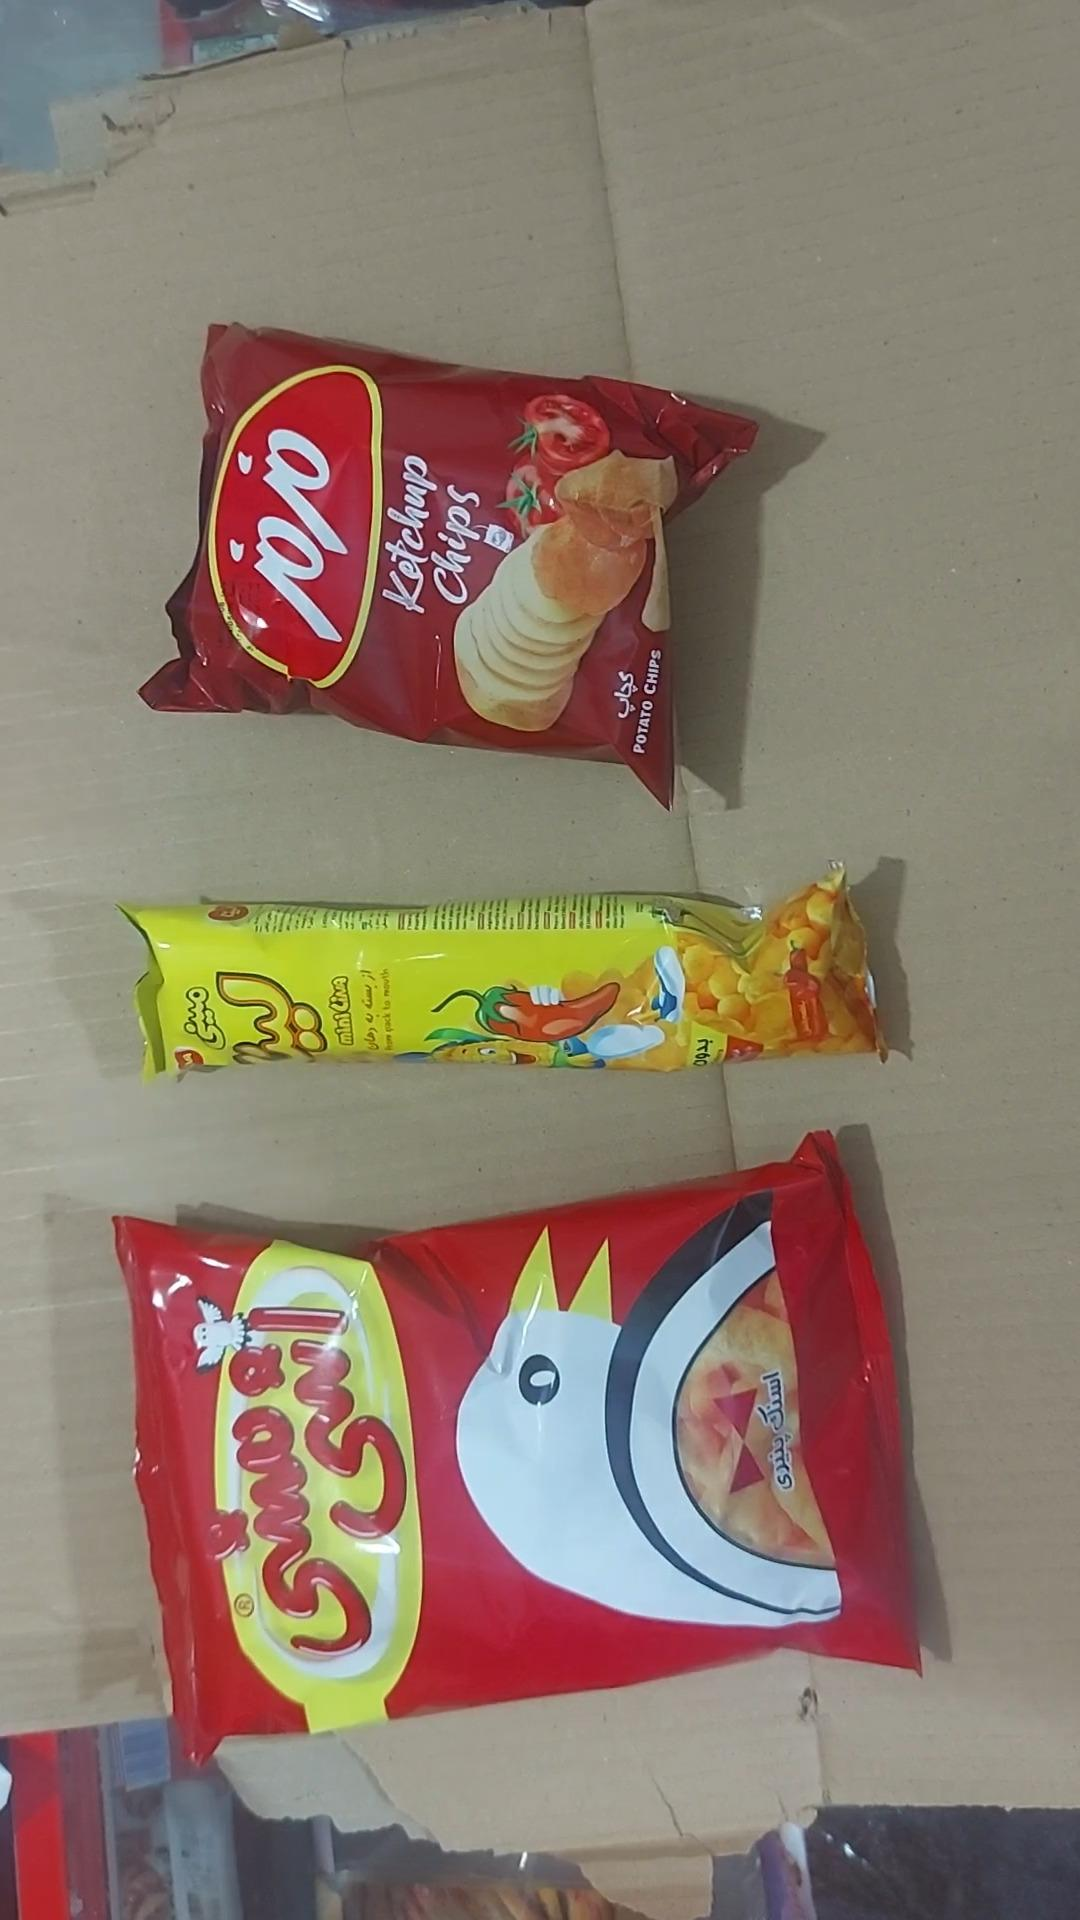Ashi Mashi snacks: (115, 1134, 920, 1758)
Maz Maz ketchup chips: (140, 324, 756, 808)
Mini Lina: (120, 866, 885, 1077)
